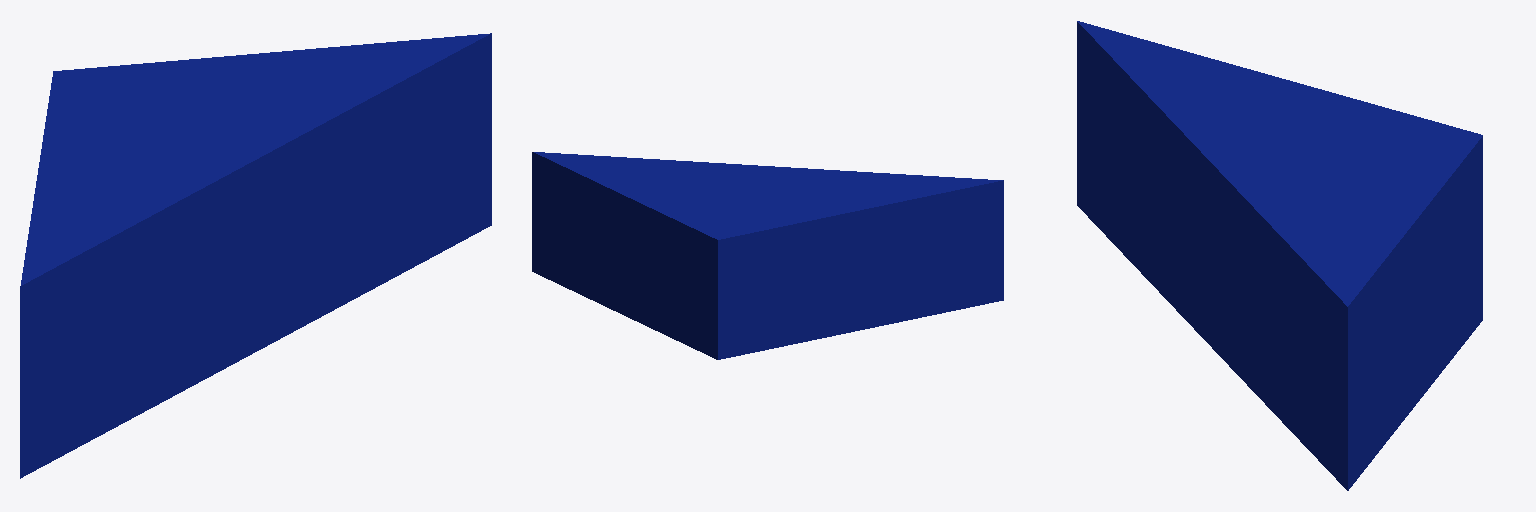
robot.urdf — block:
<robot name="block">
  <link name="block_base_link">

    <inertial>
      <origin rpy="0 0 0" xyz="-0.01333 -0.02667 0.015"/>
      <mass value="0.05"/>
      <inertia ixx="1.5216e-05" ixy="9.533e-06" ixz="0.0" iyy="3.2816e-05" iyz="0.0" izz="3.8133e-05"/>
    </inertial>
    <collision>
      
      <geometry>
        <mesh filename="21.STL" scale="1 1 1"/>
      </geometry>
    </collision>
    <visual>
 
      <geometry>
        <mesh filename="21.STL" scale="1 1 1"/>
      </geometry>
      <material name="tray_material">
        <color rgba="0.1 0.2 0.6 1"/>
      </material>
    </visual>
  </link>
</robot>

--- What the picture shows (computed from the rendered views, not written in the file) ---
3 views of the same robot in one strip: view 1: azimuth 30°, elevation 25°; view 2: azimuth 150°, elevation 25°; view 3: azimuth 270°, elevation 25° (orthographic).
Model block with 1 links and 0 joints (none), rooted at block_base_link, posed every joint at zero.
Links seen in each view (by area): view 1: block_base_link; view 2: block_base_link; view 3: block_base_link.
Boxes of the visible links, left/top/right/bottom form: block_base_link: left=20, top=33, right=491, bottom=478; block_base_link: left=532, top=152, right=1003, bottom=359; block_base_link: left=1077, top=21, right=1482, bottom=490.
Bounding box of the posed robot: 0.1 × 0.06 × 0.03 m (x, y, z).
Meshes: 1 distinct files referenced, 1 mesh visuals loaded (1 binary STL).